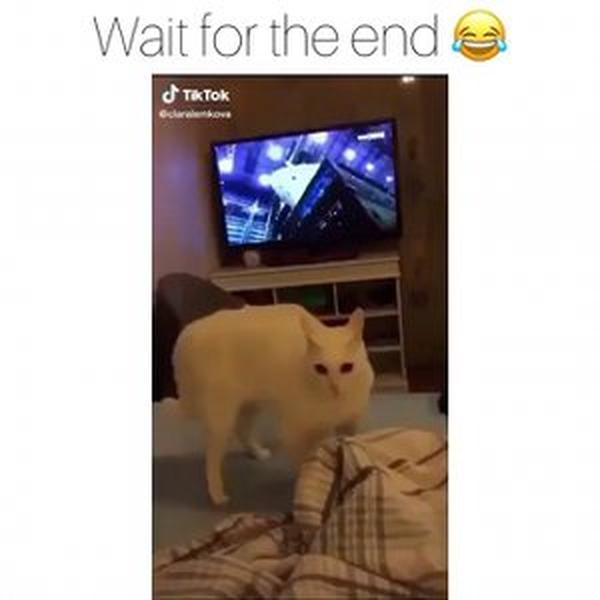michi: (160, 297, 390, 508)
